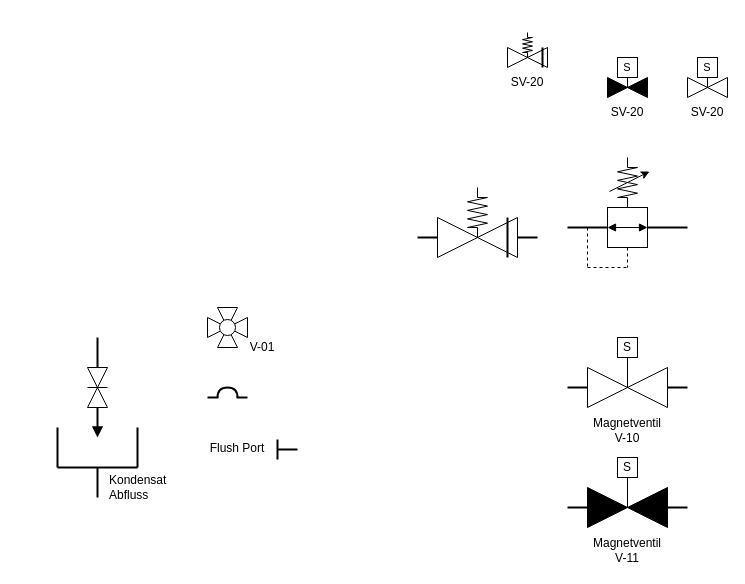
This 745x584 diagram has some shape labels left out. The shapes that lost their labels are listed below. From the top down, each one's centre as x and y in pixels, then its label:
the point at 497,237: Überdruckventil SV-10
the point at 627,227: Gegendruck Regler 0-35bar
